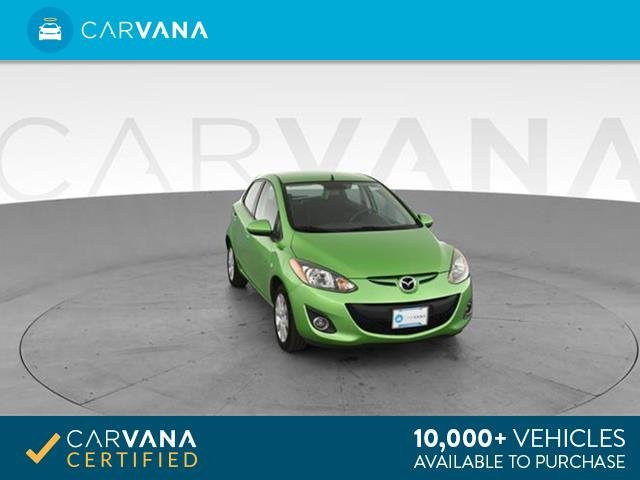Mazda3 Hatchback: (223, 162, 478, 360)
